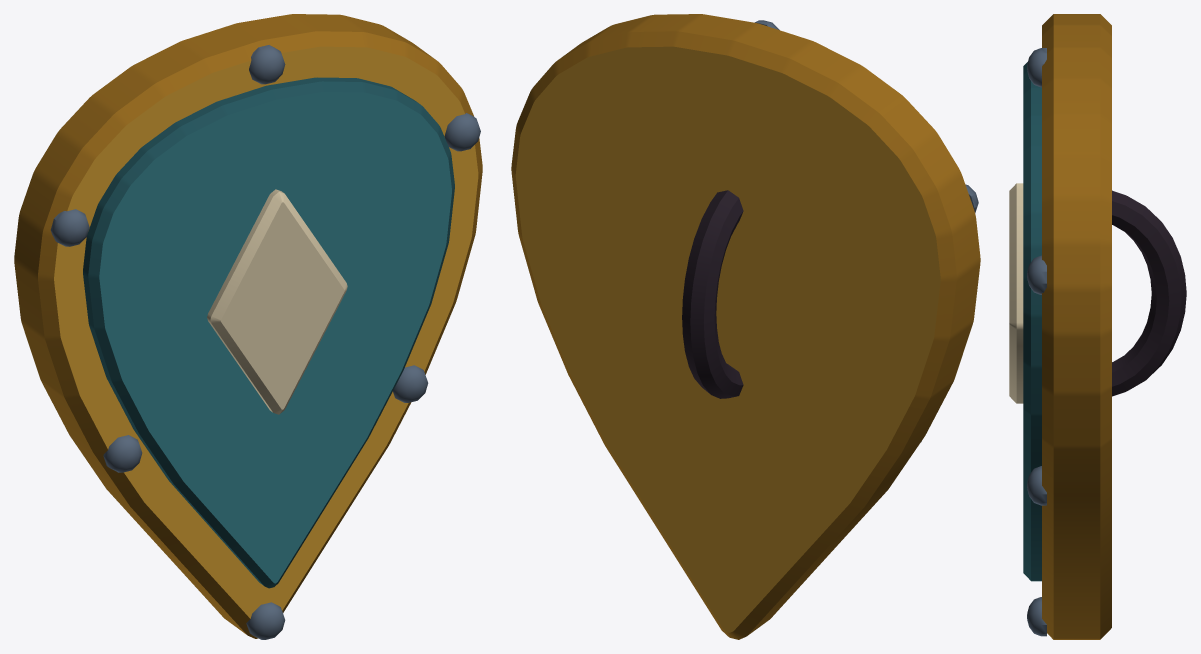
File: KiteShield_05.glb
3 renders of one model, left to right at view 1: azimuth 30°, elevation 25°; view 2: azimuth 150°, elevation 25°; view 3: azimuth 270°, elevation 25°, orthographic.
Visible parts, largest first — view 1: KiteShield_05; view 2: KiteShield_05; view 3: KiteShield_05.
Part boxes in pixels (x1=…): KiteShield_05: x1=14, y1=14, x2=482, y2=639; KiteShield_05: x1=511, y1=14, x2=980, y2=639; KiteShield_05: x1=1009, y1=14, x2=1186, y2=639.
Size of the model in its own units: 2.17 by 2.79 by 0.76.
